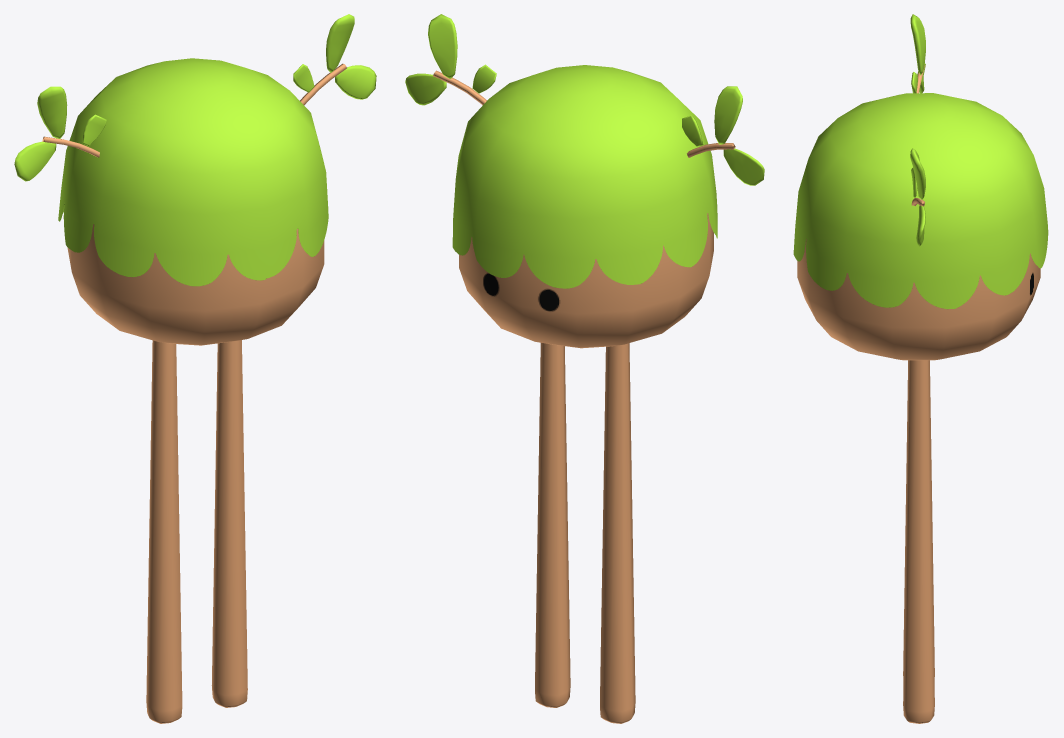
File: EnemyNatureWoodTallLow.fbx
3 views of the same model, side by side, from view 1: azimuth 30°, elevation 25°; view 2: azimuth 150°, elevation 25°; view 3: azimuth 270°, elevation 25° (orthographic). The views are drawn at different scales.
Parts seen in each view (by area): view 1: EnemyNatureWoodTall18; view 2: EnemyNatureWoodTall18; view 3: EnemyNatureWoodTall18.
Boxes of the visible parts, x1,y1,x2,y2 form: EnemyNatureWoodTall18: (14,14,376,723); EnemyNatureWoodTall18: (405,14,764,723); EnemyNatureWoodTall18: (793,14,1048,723).
Size of the model in its own units: 3.27 by 5.72 by 2.14.
